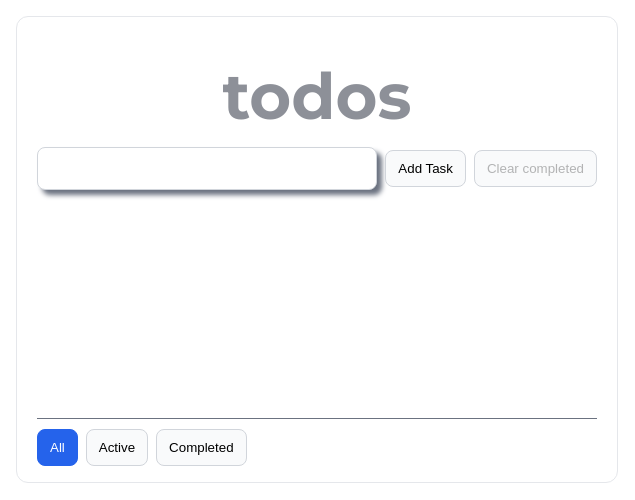
Todos App › should add new task
Type "   New Tasks   " into the field with test id "title-input" at (207,168), box [37,147,377,190]
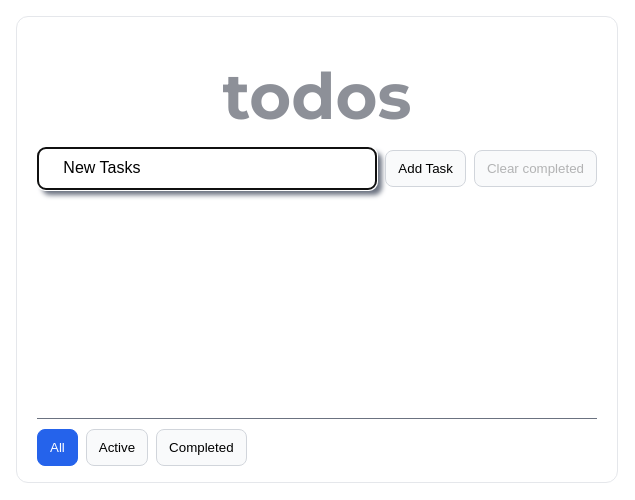
Click the button "Add Task" at (426,168), box [385,150,466,187]
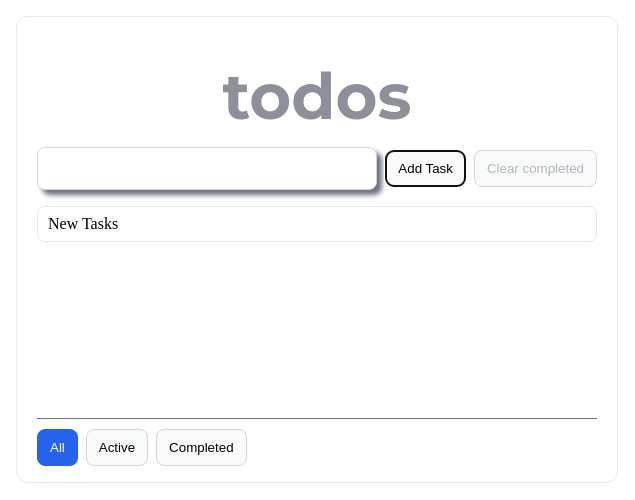
Expected: the button "Clear completed" is disabled, [474,150,597,187]
Expected: the text "New Tasks" is shown, [48,215,118,233]
